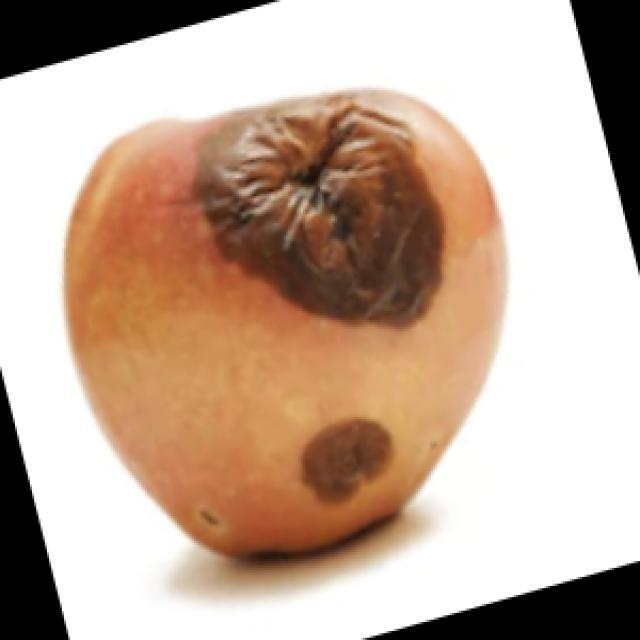Rotten: (73, 88, 480, 560)
